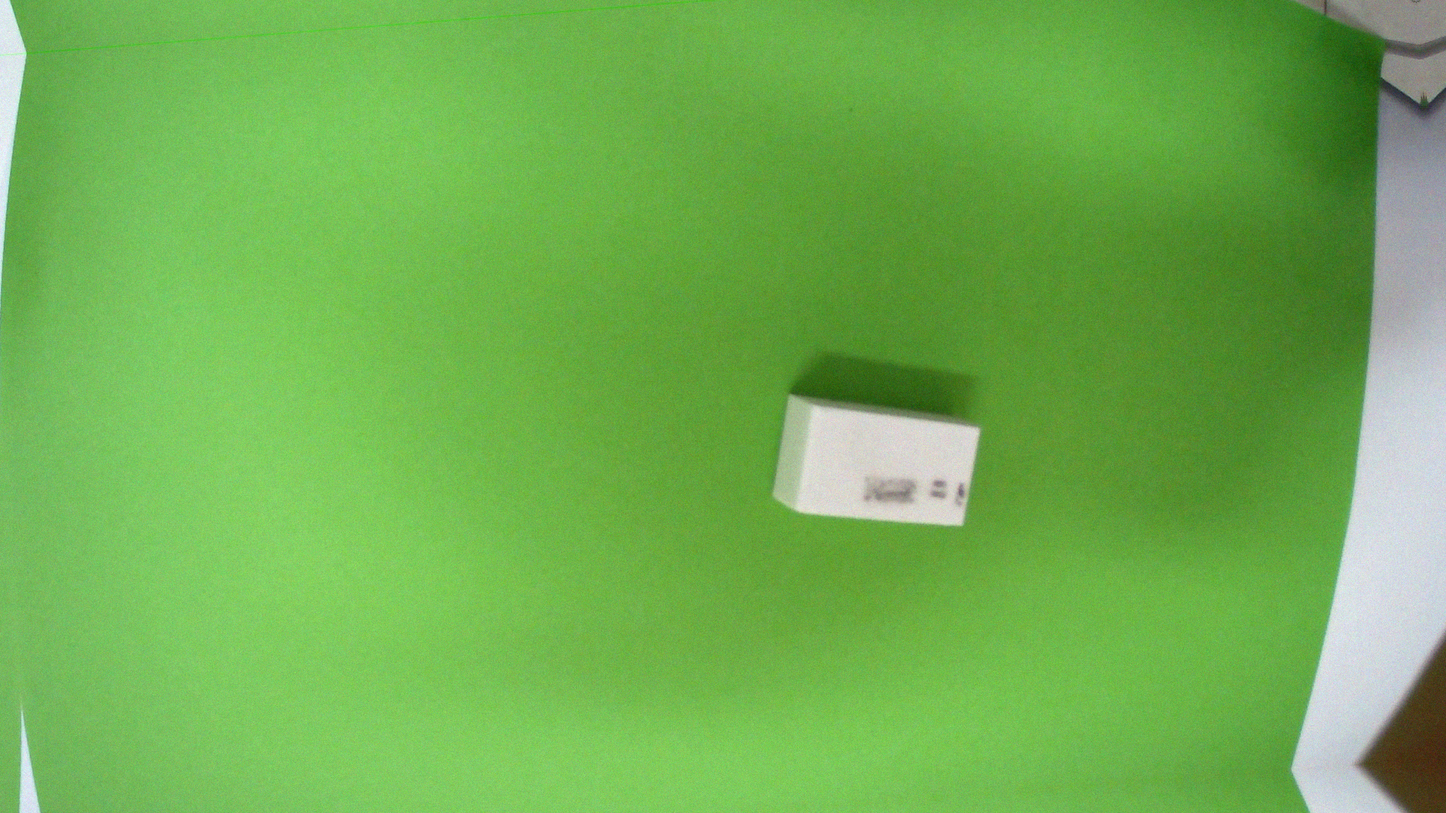gom: (766, 373, 985, 547)
